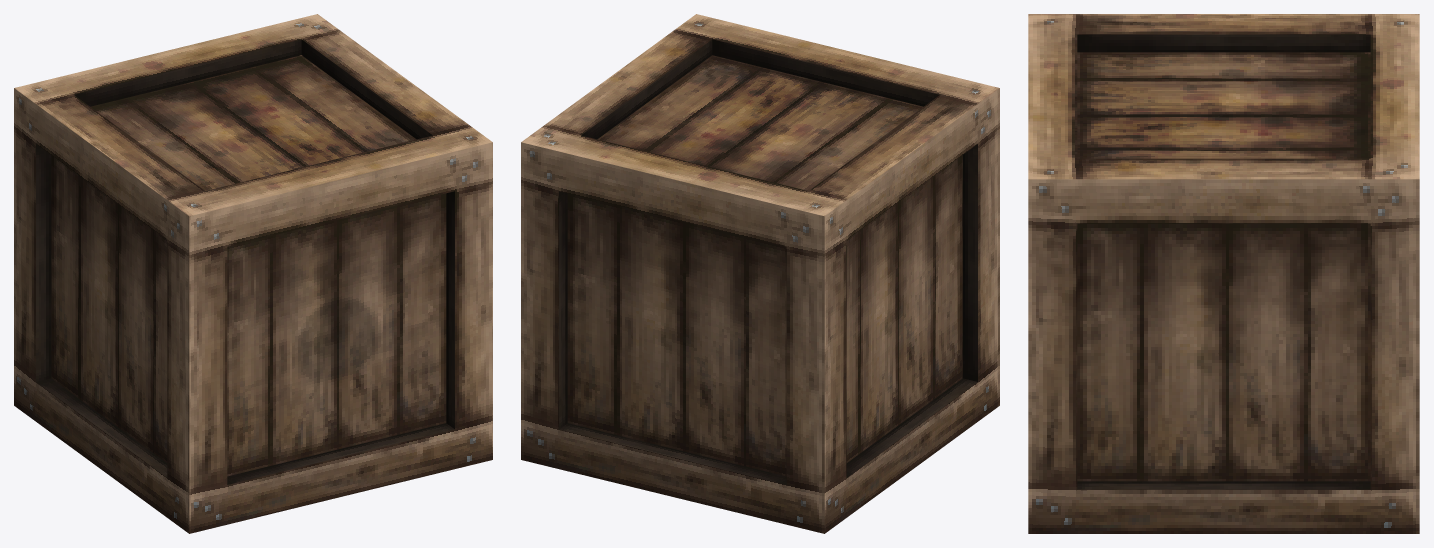
The model's file is maxdamage_crate-low-poly.gltf.
3 renders of one model, left to right at view 1: azimuth 30°, elevation 25°; view 2: azimuth 150°, elevation 25°; view 3: azimuth 270°, elevation 25°, orthographic. The views are drawn at different scales.
Visible parts, largest first — view 1: Crate; view 2: Crate; view 3: Crate.
Part boxes in pixels (x1,y1,x2,y2): Crate: (14,14,492,533); Crate: (521,14,999,533); Crate: (1028,14,1419,533).
Size of the model in its own units: 1 by 1 by 1.
Materials: 1 (1 with a texture image).
